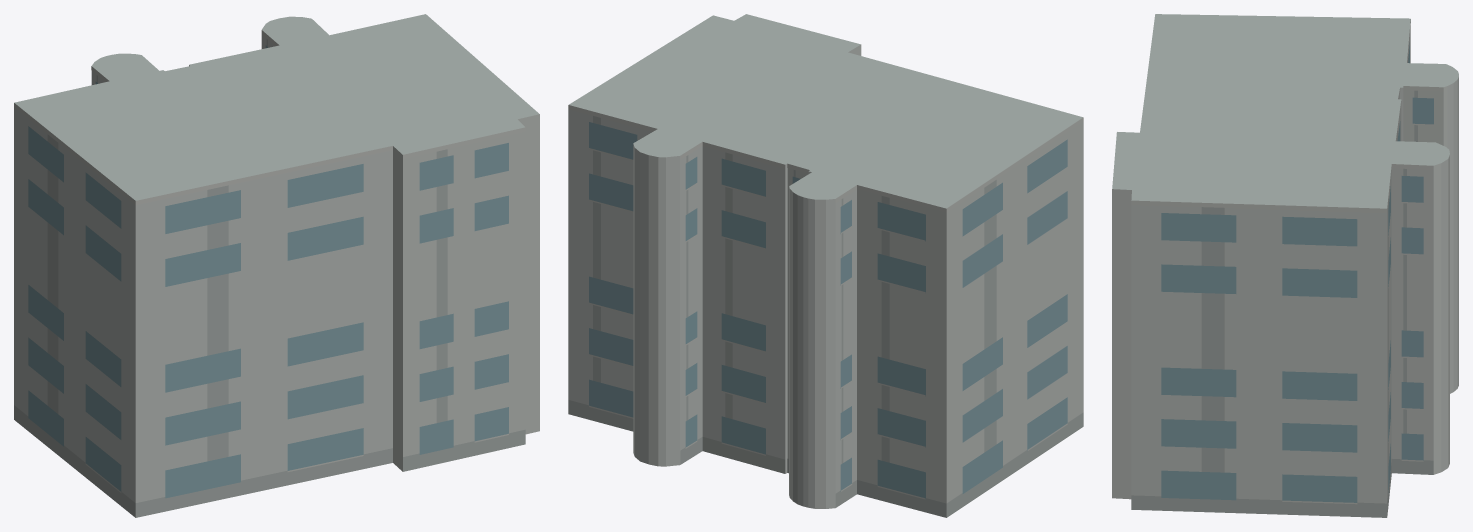
File: survey-upis-32675880.glb
The picture shows the model from 3 angles, left to right: view 1: azimuth 30°, elevation 25°; view 2: azimuth 150°, elevation 25°; view 3: azimuth 270°, elevation 25°; orthographic projection. The views are drawn at different scales.
Parts seen in each view (by area): view 1: survey-upis-32675880.tmp; view 2: survey-upis-32675880.tmp; view 3: survey-upis-32675880.tmp.
Boxes of the visible parts, left/top/right/bottom form: survey-upis-32675880.tmp: left=14, top=14, right=539, bottom=517; survey-upis-32675880.tmp: left=568, top=14, right=1083, bottom=517; survey-upis-32675880.tmp: left=1112, top=14, right=1458, bottom=517.
Size of the model in its own units: 23.64 by 17.5 by 17.79.
